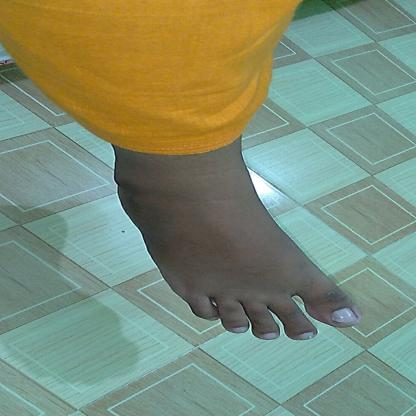leg: (44, 0, 391, 387)
